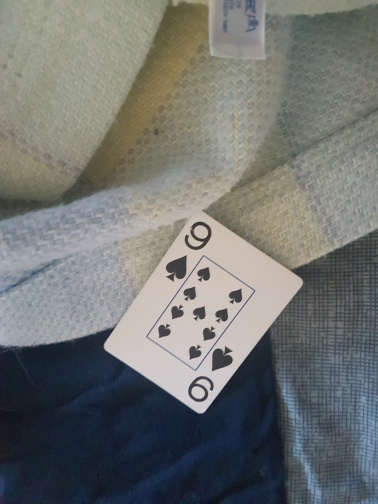nine: (104, 217, 306, 413)
